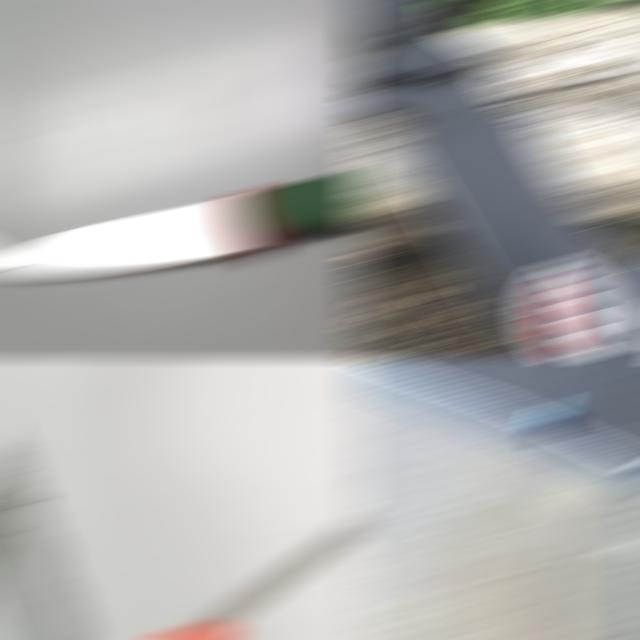Knife: (0, 173, 368, 274), (155, 516, 368, 638)
